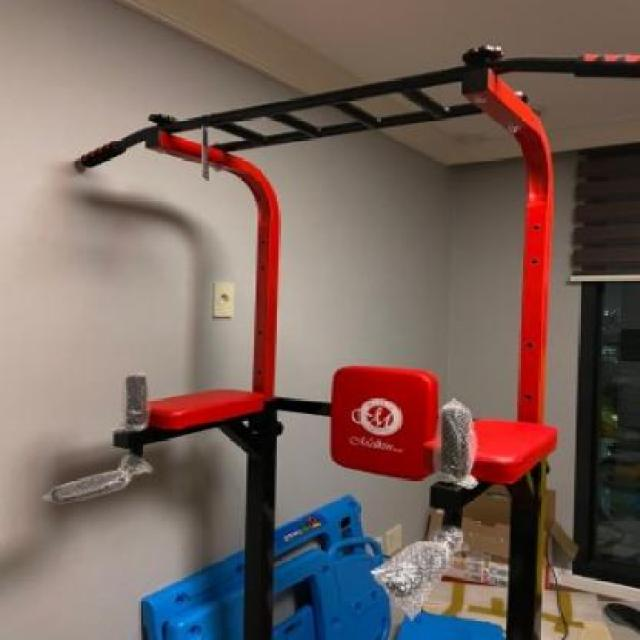chinning dipping: (54, 44, 640, 640)
